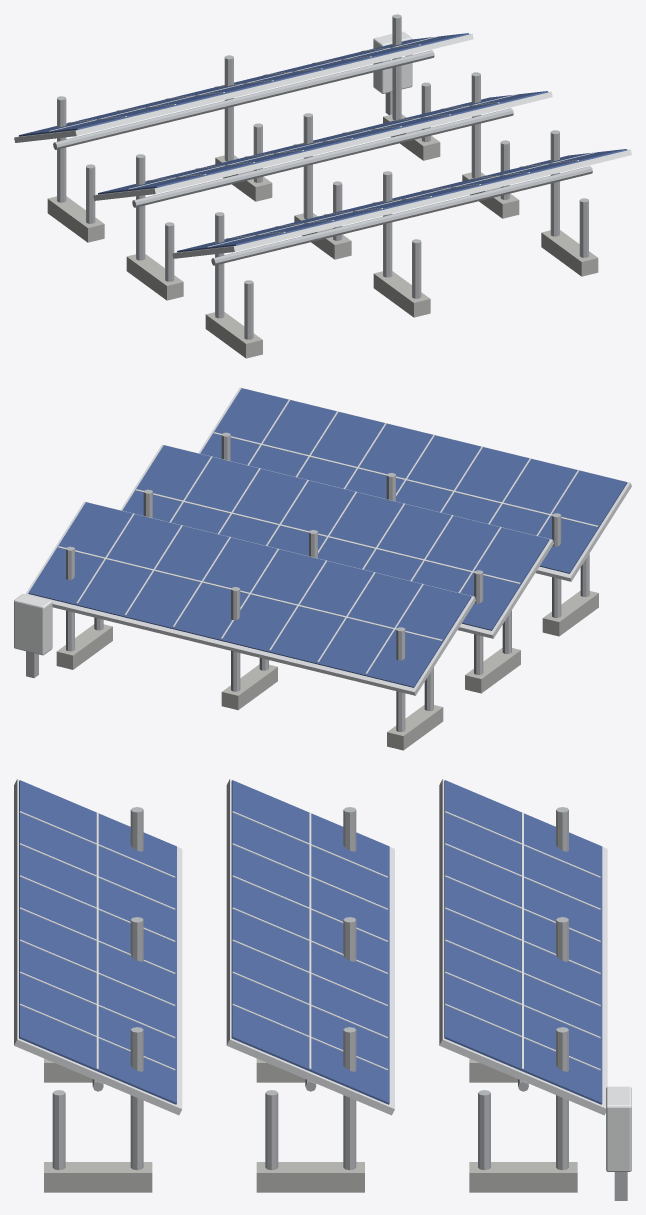
Rendered from solar_big.fbx.
3 renders of one model, top to bottom at view 1: azimuth 30°, elevation 25°; view 2: azimuth 150°, elevation 25°; view 3: azimuth 270°, elevation 25°, orthographic. The views are drawn at different scales.
Visible parts, largest first — view 1: solar_big; view 2: solar_big; view 3: solar_big.
Boxes of the visible parts, left/top/right/bottom form: solar_big: left=14, top=14, right=631, bottom=358; solar_big: left=14, top=387, right=631, bottom=750; solar_big: left=14, top=779, right=631, bottom=1200.
Bounding box in the file's own units: 2.85 × 0.8617 × 2.85.
